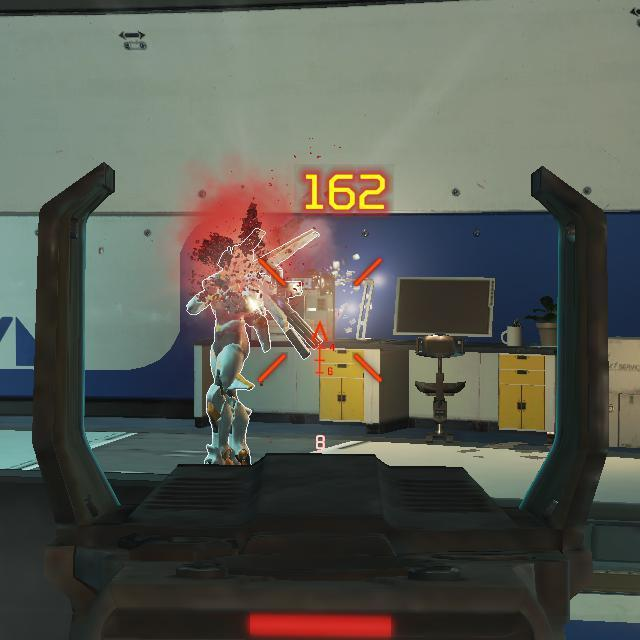avatar: (185, 245, 273, 468)
